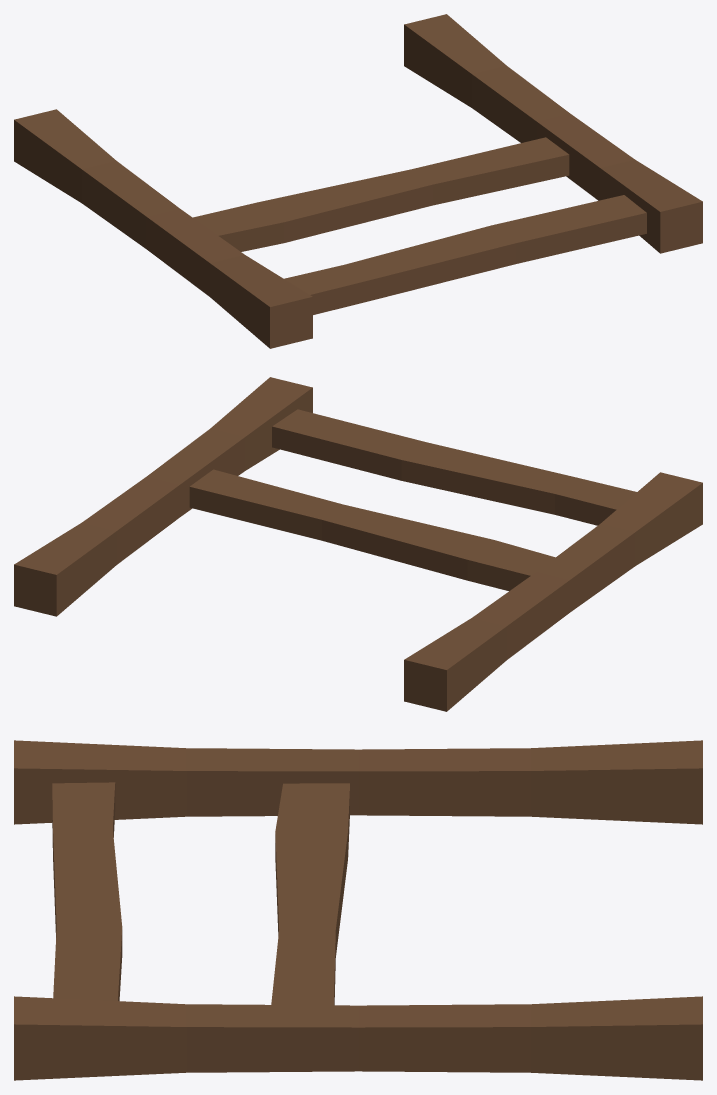
The model's file is Barrier_02.fbx.
The picture shows the model from 3 angles, top to bottom: view 1: azimuth 30°, elevation 25°; view 2: azimuth 150°, elevation 25°; view 3: azimuth 270°, elevation 25°; orthographic projection. The views are drawn at different scales.
Parts seen in each view (by area): view 1: Barriere_2; view 2: Barriere_2; view 3: Barriere_2.
Part boxes in pixels (bbox=[...]): Barriere_2: bbox=[14, 14, 702, 348]; Barriere_2: bbox=[14, 377, 702, 711]; Barriere_2: bbox=[14, 740, 702, 1080].
Bounding box in the file's own units: 97.8 × 9.01 × 100.
